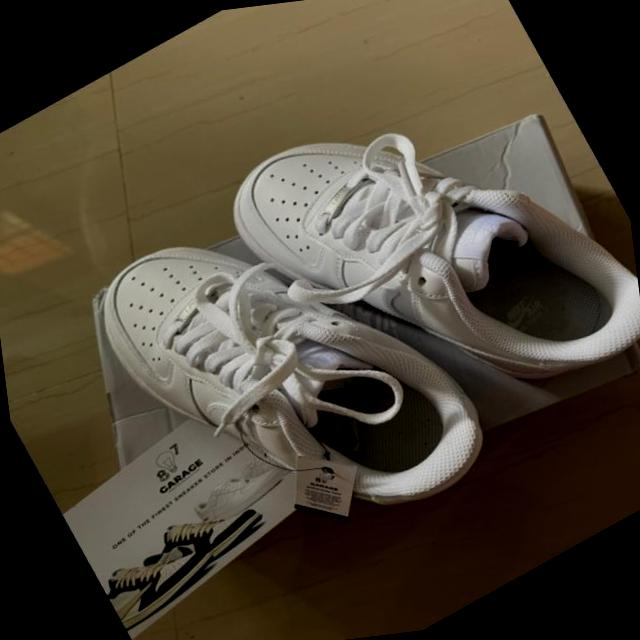nike_original_airforce: (28, 130, 522, 632), (194, 7, 640, 508)
